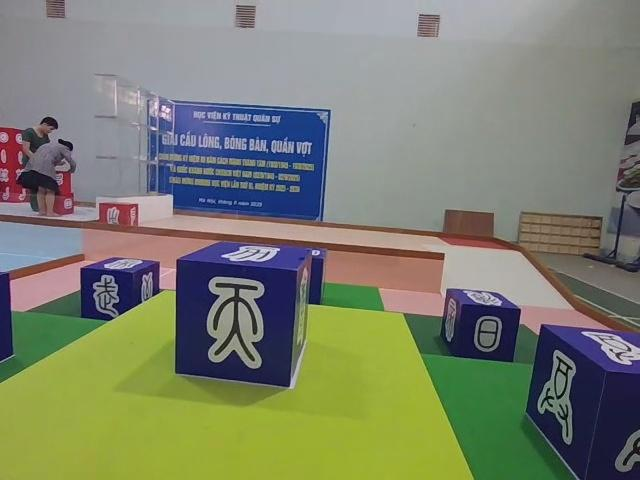R2 Fake Blue: (175, 240, 321, 391), (442, 289, 524, 364), (81, 256, 163, 322), (0, 271, 13, 387)
R2 Real Blue: (525, 322, 639, 480)
